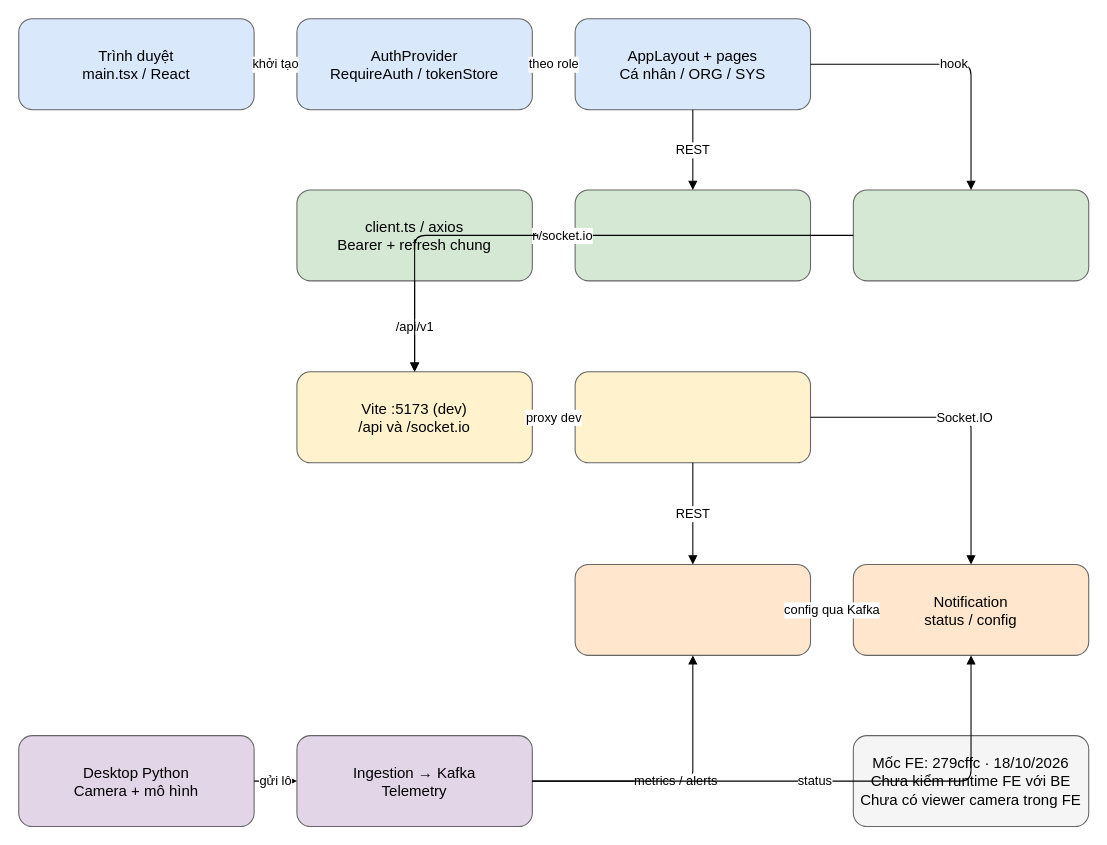
The diagram is 1107 pixels wide and 845 high, and some of its shapes have lost their labels. Each missing label, with the centre of its shape:
"Auth / Config / Organization Analytics / Alert" belongs at point (692, 609).
"Backend Gateway :8080 /api/v1 và /socket.io" belongs at point (692, 417).
"realtime/hooks.ts socket.ts / auth token" belongs at point (970, 235).
"TanStack Query lib/api/*.ts" belongs at point (692, 235).
